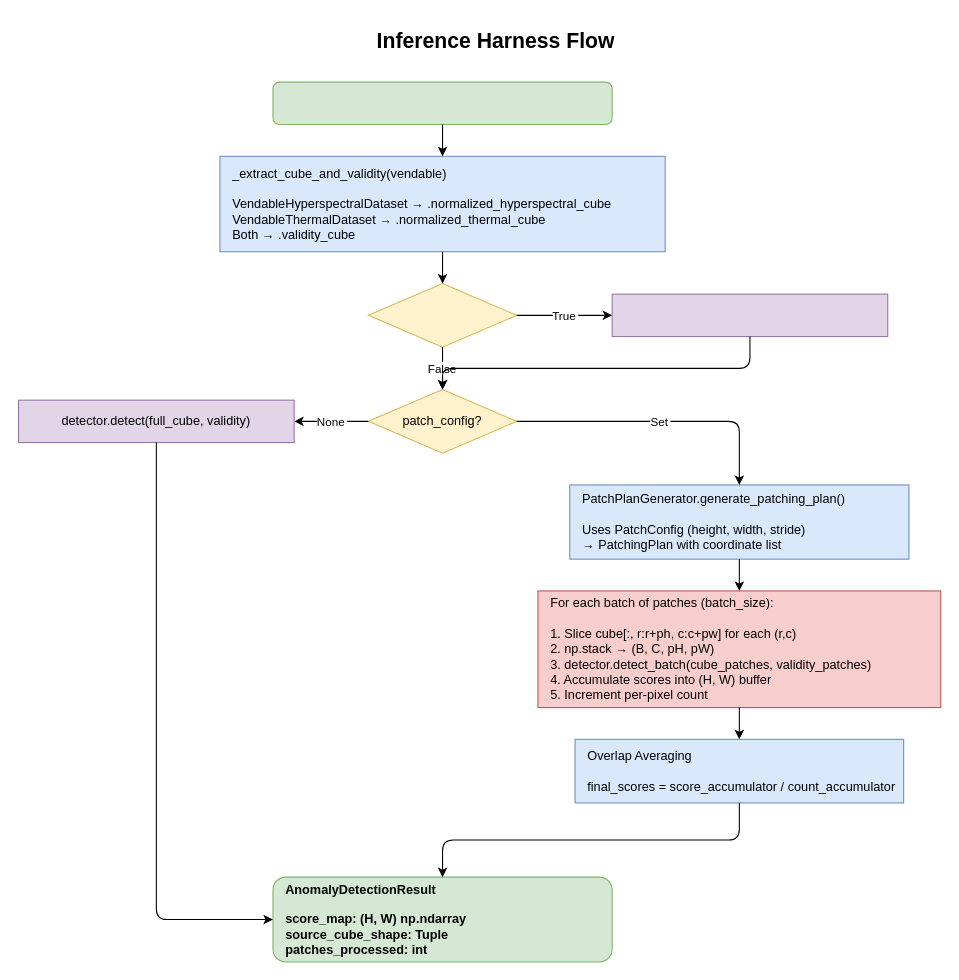
Some shapes in this 959 by 980 pixel diagram are drawn without their labels. The shapes that lost their labels are listed below. From the top down, each one's centre as x and y in pixels, then its label:
At point 442,103: "InferenceHarness.run(vendable, detector)".
At point 442,314: "fit_on_full_scene?".
At point 749,315: "detector.fit(full_cube, full_validity)".
